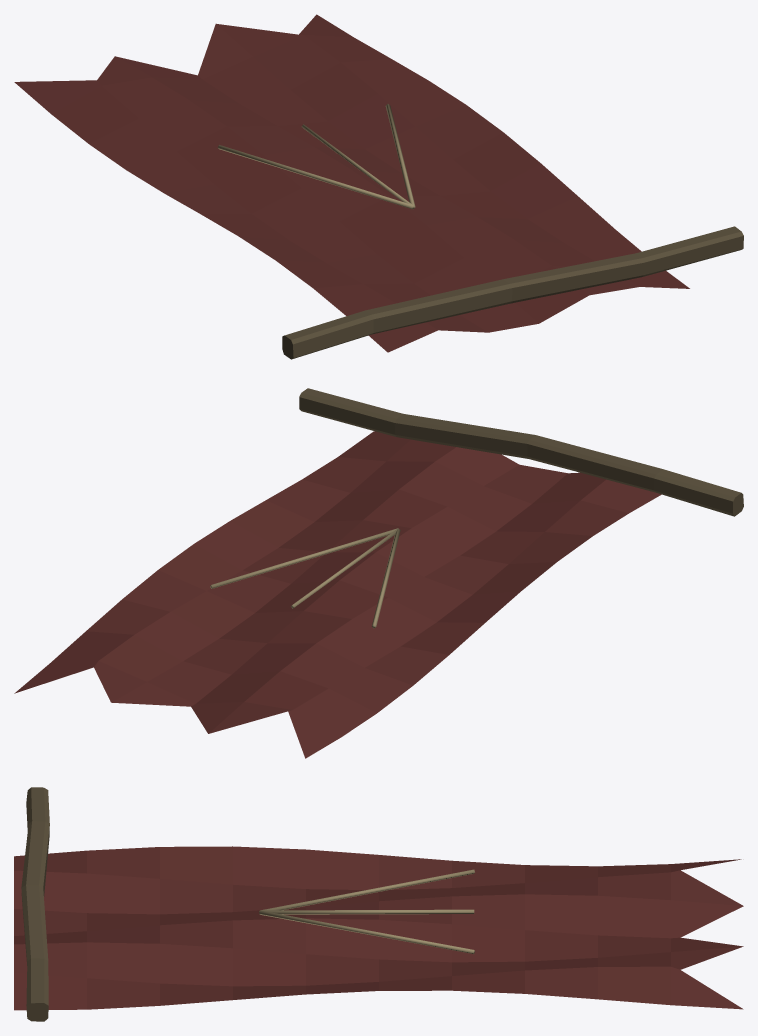
File: fallen-banner.glb
3 renders of one model, top to bottom at view 1: azimuth 30°, elevation 25°; view 2: azimuth 150°, elevation 25°; view 3: azimuth 270°, elevation 25°, orthographic. The views are drawn at different scales.
Parts seen in each view (by area): view 1: Surface; view 2: Surface; view 3: Surface.
Boxes of the visible parts, <box> form: Surface: <box>14,14,743,359</box>; Surface: <box>14,388,743,758</box>; Surface: <box>14,787,743,1021</box>.
Bounding box in the file's own units: 0.6401 × 0.0588 × 0.92.
